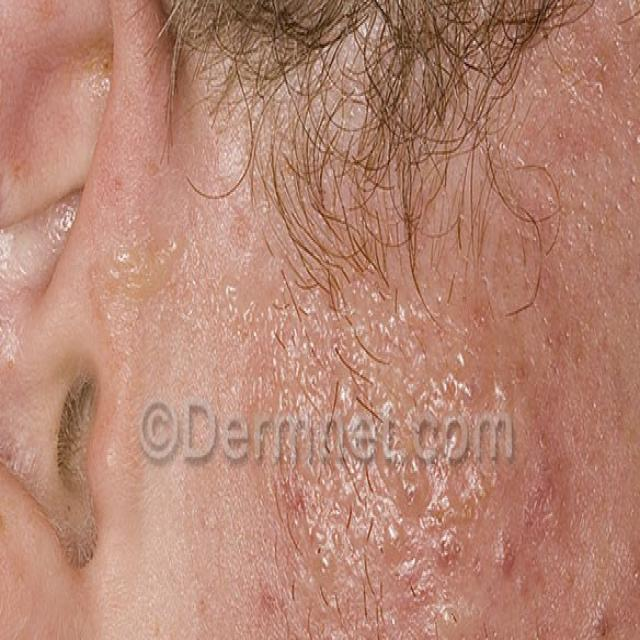Viral Infections: (248, 252, 540, 640), (92, 200, 242, 369)
